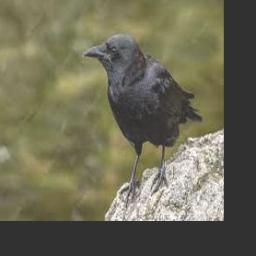Crow: (82, 34, 201, 204)
